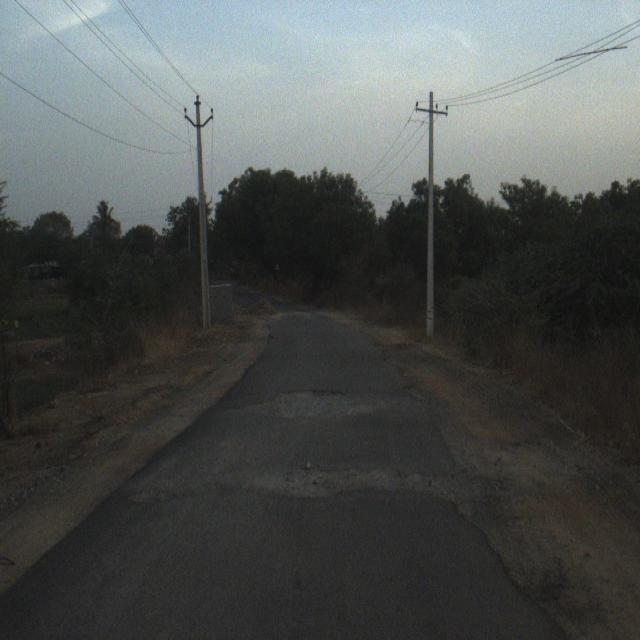Pothole: (153, 425, 432, 527), (217, 363, 412, 419)
